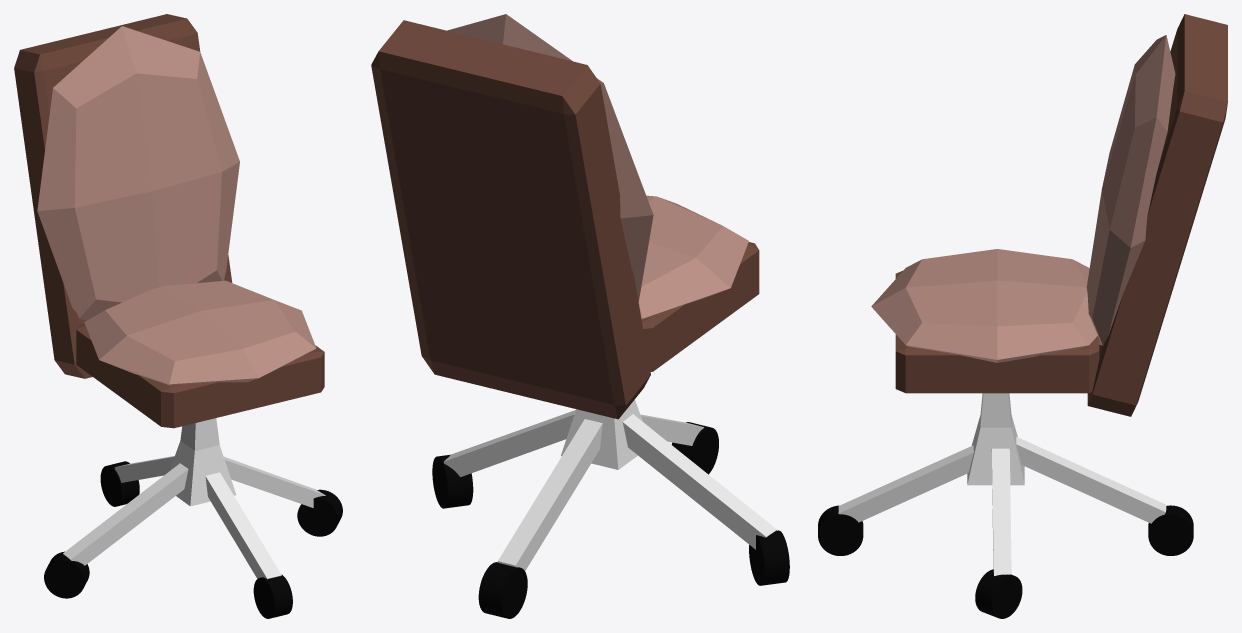
Rendered from SpinningChairPillow.fbx.
3 views of the same model, side by side, from view 1: azimuth 30°, elevation 25°; view 2: azimuth 150°, elevation 25°; view 3: azimuth 270°, elevation 25° (orthographic). The views are drawn at different scales.
Visible parts, largest first — view 1: SpinningChairPillow; view 2: SpinningChairPillow; view 3: SpinningChairPillow.
Boxes of the visible parts, x1=… form: SpinningChairPillow: x1=14, y1=14, x2=342, y2=618; SpinningChairPillow: x1=371, y1=14, x2=789, y2=618; SpinningChairPillow: x1=818, y1=14, x2=1227, y2=618.
Size of the model in its own units: 76.93 by 86.57 by 120.
